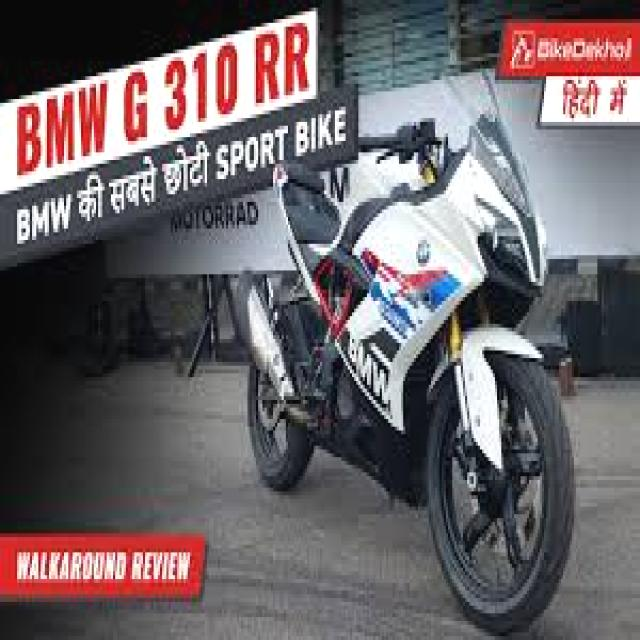MOTORCYCLE: (239, 147, 574, 639)
